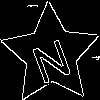N: (26, 29, 75, 85)
